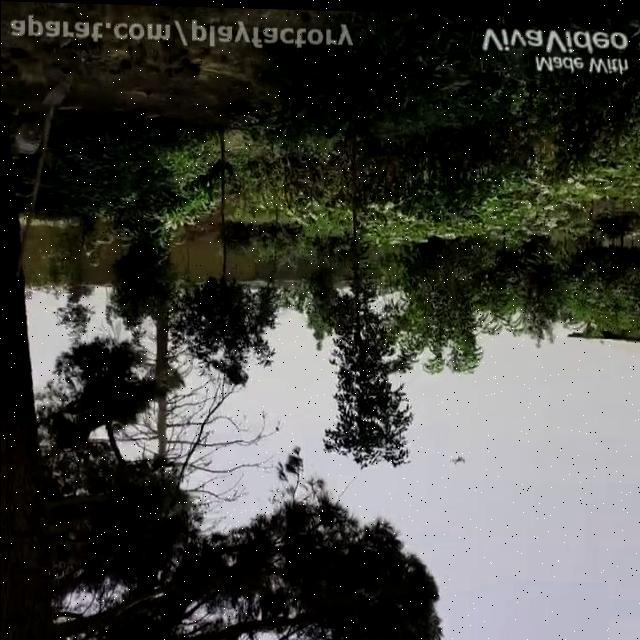drone: (447, 450, 467, 467)
